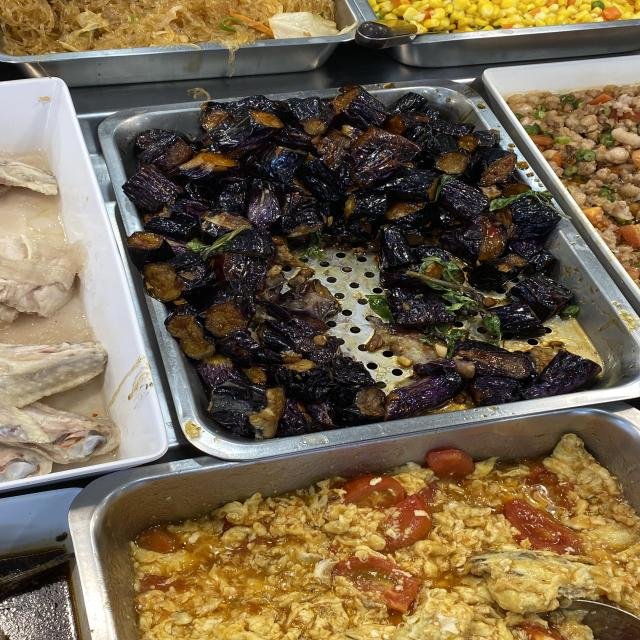eggplant: (213, 112, 447, 225)
